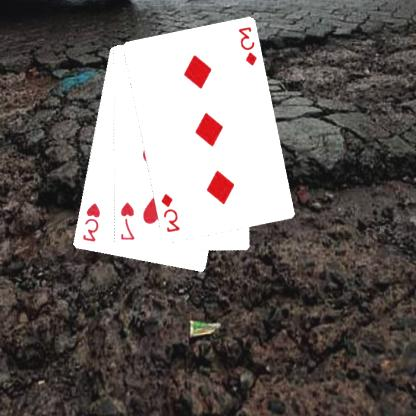3D: (237, 24, 260, 68), (160, 191, 183, 234)
3H: (81, 200, 103, 244)
7H: (120, 200, 138, 242)
